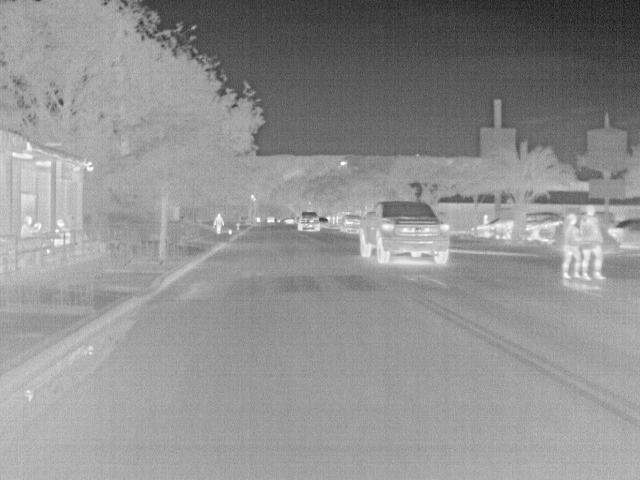car: (357, 199, 453, 266), (608, 218, 639, 250), (527, 218, 563, 241), (296, 210, 322, 234), (470, 218, 502, 236), (339, 214, 360, 234), (318, 216, 331, 228)
person: (576, 206, 606, 282), (560, 213, 587, 279), (19, 214, 46, 238), (54, 218, 75, 248), (211, 212, 226, 234)
